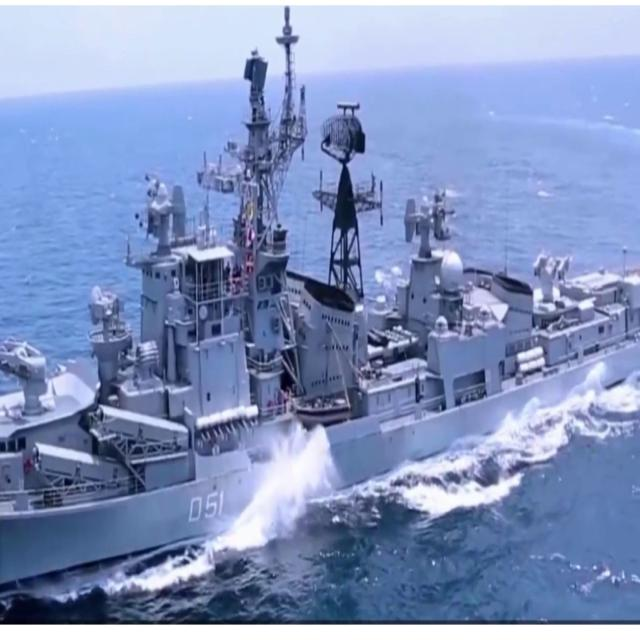OCR: (176, 480, 227, 530)
